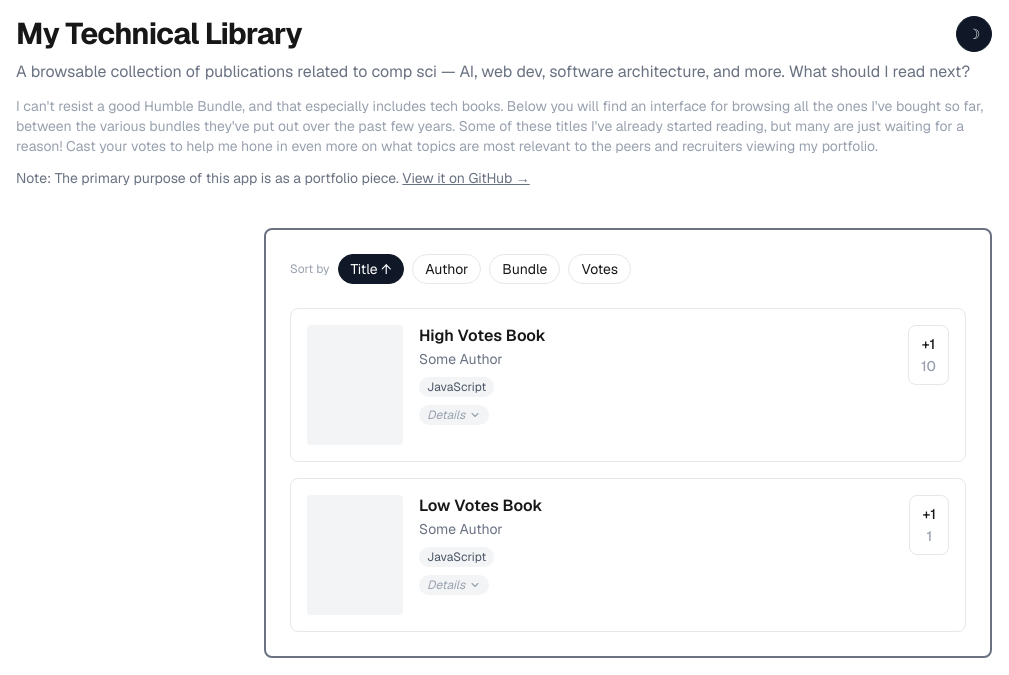
Test: BookShelf › sorting › sorts by votes ascending when Votes is clicked
The width and height of the screenshot is (1009, 675).
Click the button "Votes".
click(600, 269)  # box left=568, top=254, right=631, bottom=284
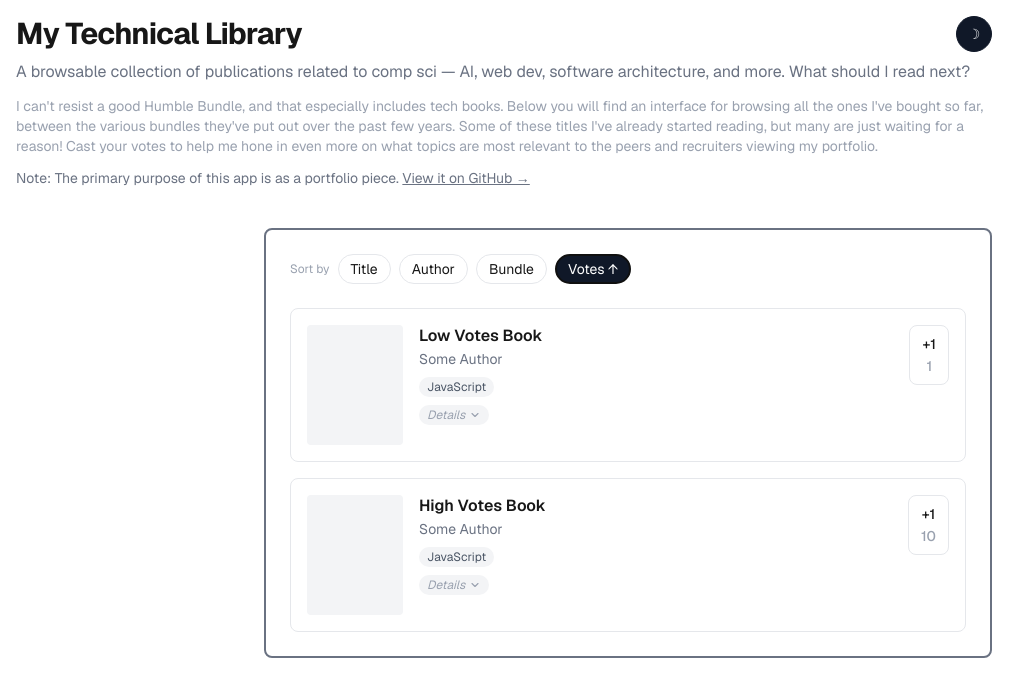
Now the list item "Low Votes Book Some Author JavaScript Details +1 1" is shown, box left=290, top=308, right=966, bottom=462
Now the list item "High Votes Book Some Author JavaScript Details +1 10" is shown, box left=290, top=478, right=966, bottom=632
